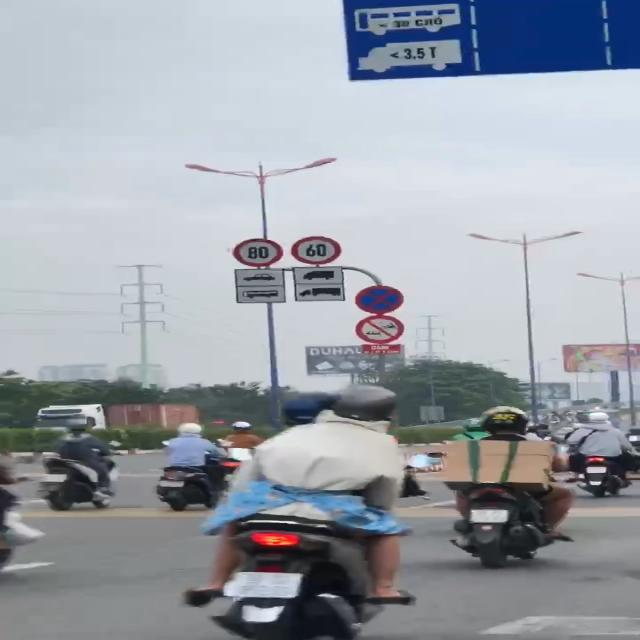Bien bao cam dung xe va do xe: (354, 284, 406, 316)
Bien bao toc do toi da cho phep: (288, 235, 345, 267), (230, 238, 282, 268)
